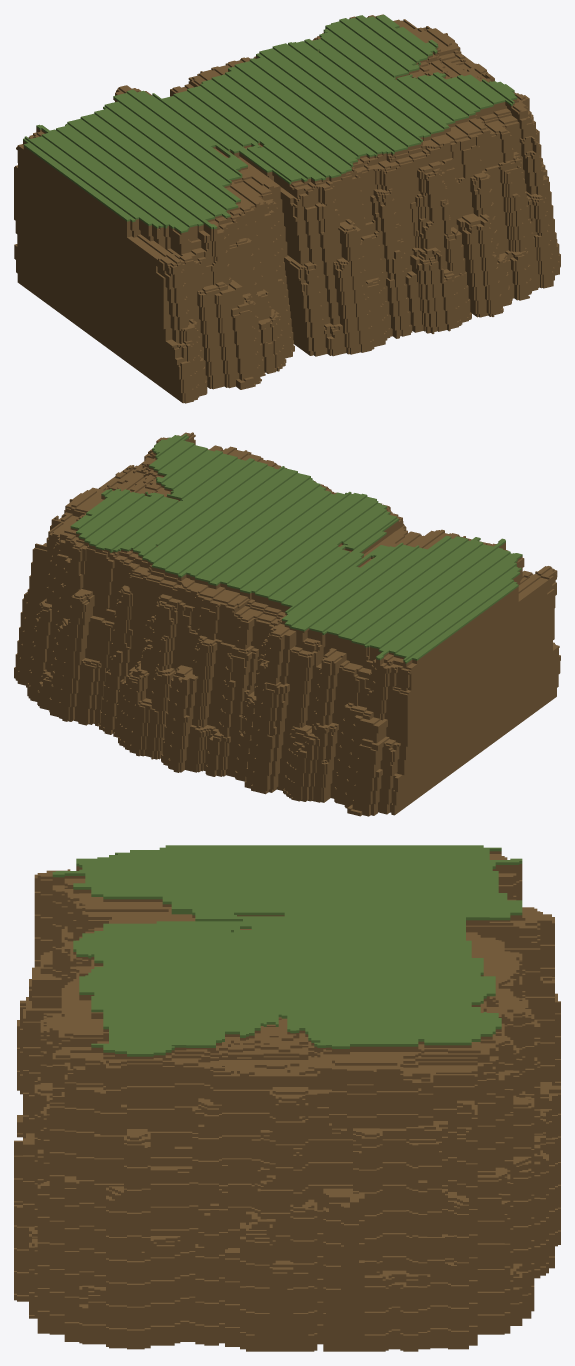
Rendered from forest1.4-117.obj.
The picture shows the model from 3 angles, top to bottom: view 1: azimuth 30°, elevation 25°; view 2: azimuth 150°, elevation 25°; view 3: azimuth 270°, elevation 25°; orthographic projection. The views are drawn at different scales.
Bounding box in the file's own units: 25.1 × 11.3 × 18.4.
Materials: 1 (1 with a texture image).
